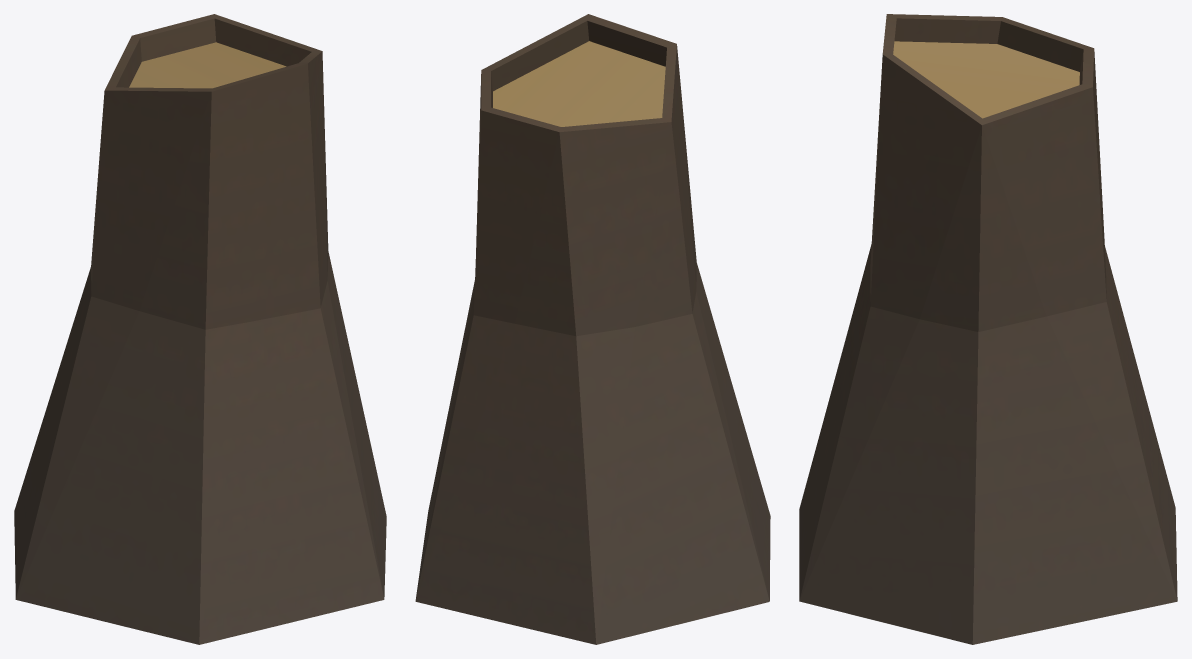
File: SM_Tree_5.FBX
3 views of the same model, side by side, from view 1: azimuth 30°, elevation 25°; view 2: azimuth 150°, elevation 25°; view 3: azimuth 270°, elevation 25° (orthographic). The views are drawn at different scales.
Parts seen in each view (by area): view 1: SM_Tree_5; view 2: SM_Tree_5; view 3: SM_Tree_5.
Part boxes in pixels (x1=…): SM_Tree_5: x1=14, y1=14, x2=386, y2=644; SM_Tree_5: x1=415, y1=14, x2=770, y2=644; SM_Tree_5: x1=799, y1=14, x2=1177, y2=644.
Size of what is drawn, in the model's own units: 106 by 93.31 by 144.
